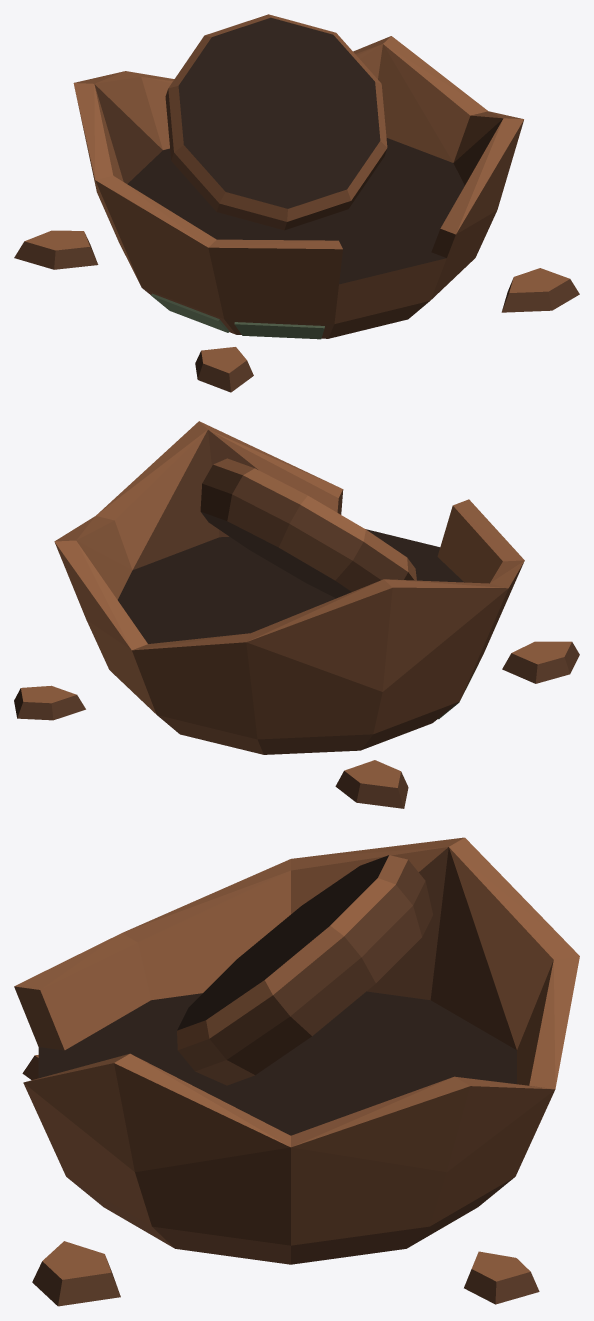
File: MODEL-DESTRUCTIBLE_Jar_Broken.fbx
3 views of the same model, one above another, from view 1: azimuth 30°, elevation 25°; view 2: azimuth 150°, elevation 25°; view 3: azimuth 270°, elevation 25° (orthographic). The views are drawn at different scales.
Visible parts, largest first — view 1: Jar_Broken_Base, Jar_Broken_Rim, Jar_Broken_Shard_0, Jar_Broken_Shard_2, Jar_Broken_Shard_1; view 2: Jar_Broken_Base, Jar_Broken_Rim, Jar_Broken_Shard_2, Jar_Broken_Shard_1, Jar_Broken_Shard_3; view 3: Jar_Broken_Base, Jar_Broken_Rim, Jar_Broken_Shard_0, Jar_Broken_Shard_3.
Part boxes in pixels (left/top/right/bottom): Jar_Broken_Base: left=73, top=36, right=523, bottom=339; Jar_Broken_Rim: left=165, top=14, right=387, bottom=230; Jar_Broken_Shard_0: left=501, top=268, right=579, bottom=312; Jar_Broken_Shard_2: left=14, top=230, right=98, bottom=269; Jar_Broken_Shard_1: left=195, top=347, right=253, bottom=392; Jar_Broken_Base: left=54, top=421, right=524, bottom=754; Jar_Broken_Rim: left=200, top=458, right=416, bottom=598; Jar_Broken_Shard_2: left=335, top=760, right=408, bottom=808; Jar_Broken_Shard_1: left=502, top=641, right=579, bottom=683; Jar_Broken_Shard_3: left=14, top=685, right=85, bottom=720; Jar_Broken_Base: left=14, top=837, right=579, bottom=1264; Jar_Broken_Rim: left=177, top=855, right=432, bottom=1085; Jar_Broken_Shard_0: left=32, top=1241, right=120, bottom=1306; Jar_Broken_Shard_3: left=464, top=1251, right=539, bottom=1304.
Size of the model in its own units: 0.7655 by 0.4312 by 0.7185.
Materials: 1 (1 with a texture image).
